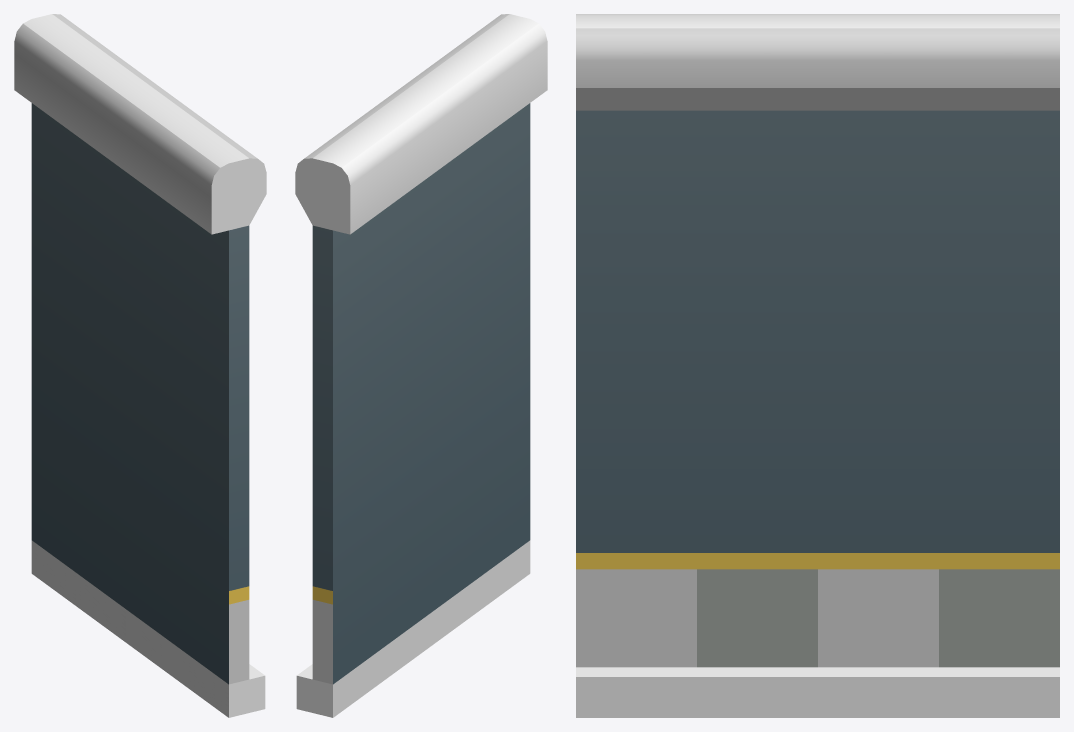
File: Wall_Text.fbx
3 views of the same model, side by side, from view 1: azimuth 30°, elevation 25°; view 2: azimuth 150°, elevation 25°; view 3: azimuth 270°, elevation 25° (orthographic). The views are drawn at different scales.
Parts seen in each view (by area): view 1: Wall_Text; view 2: Wall_Text; view 3: Wall_Text.
Boxes of the visible parts, left/top/right/bottom form: Wall_Text: left=14, top=14, right=266, bottom=717; Wall_Text: left=295, top=14, right=547, bottom=717; Wall_Text: left=576, top=14, right=1059, bottom=717.
Size of the model in its own units: 32 by 310 by 200.
